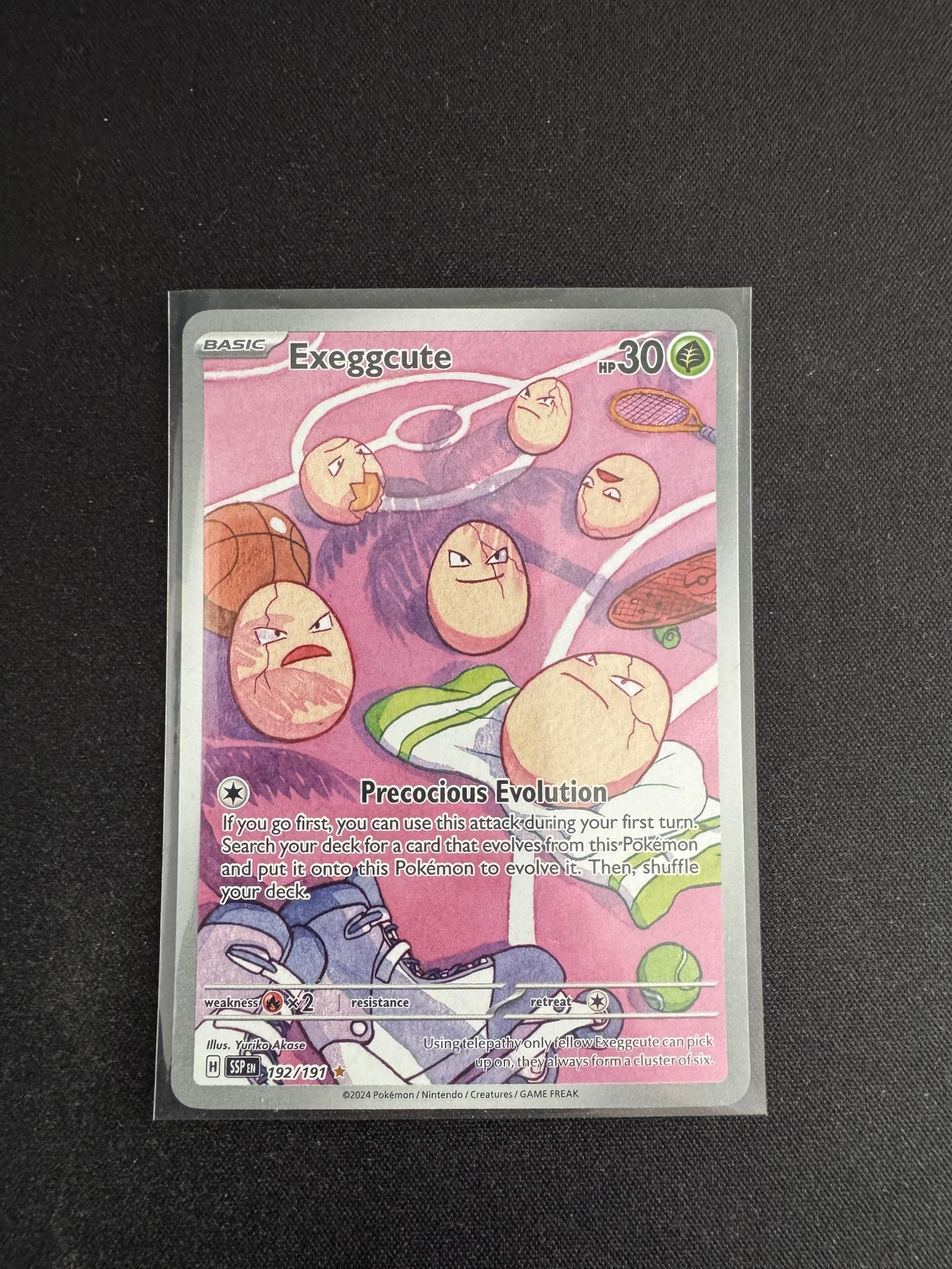card-2UtV: (170, 308, 750, 1110)
